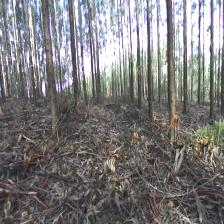trunk: (43, 19, 60, 130), (167, 6, 180, 143), (68, 11, 80, 104), (147, 24, 154, 119), (80, 45, 88, 104), (183, 18, 188, 111), (137, 42, 142, 109), (210, 46, 214, 117), (197, 52, 202, 105)
